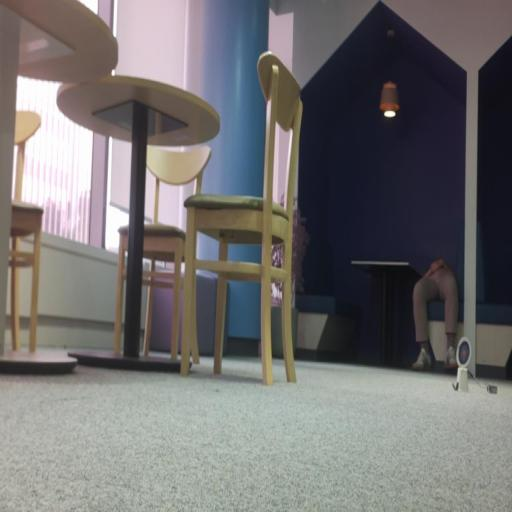target: (456, 338, 471, 368)
